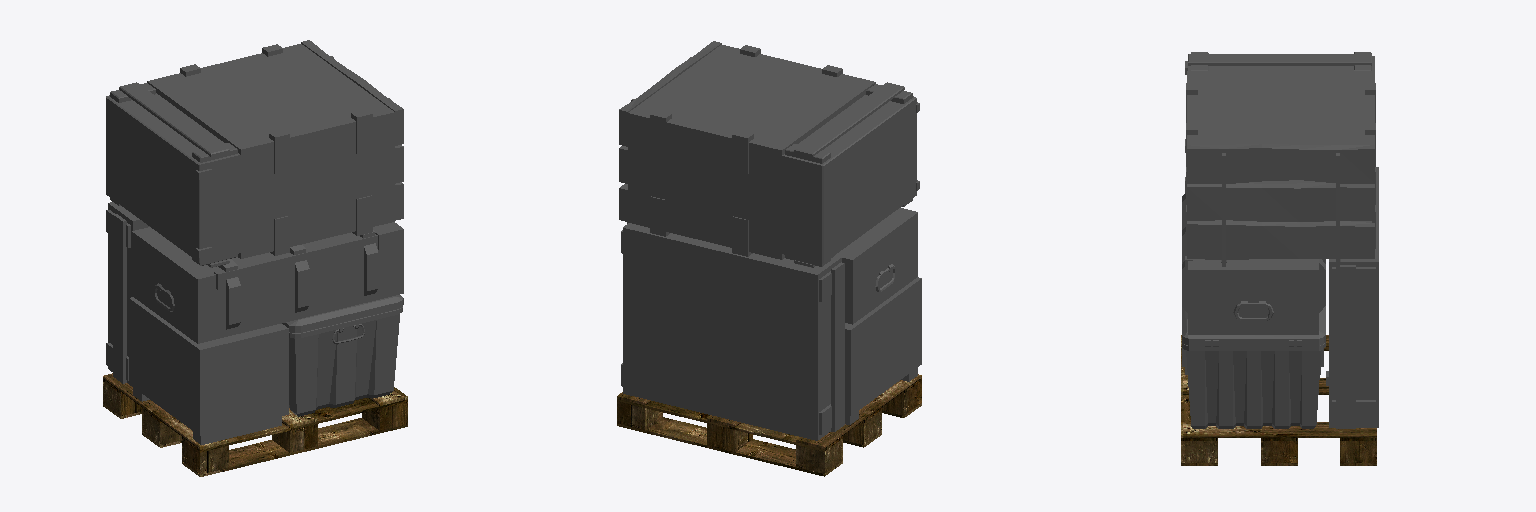
3 renders of one model, left to right at view 1: azimuth 30°, elevation 25°; view 2: azimuth 150°, elevation 25°; view 3: azimuth 270°, elevation 25°, orthographic.
Parts seen in each view (by area): view 1: studio_crateshell_ref_mesh_02; view 2: studio_crateshell_ref_mesh_02; view 3: studio_crateshell_ref_mesh_02.
Part boxes in pixels (x1,y1,x2,y2): studio_crateshell_ref_mesh_02: (103,40,407,476); studio_crateshell_ref_mesh_02: (617,41,921,476); studio_crateshell_ref_mesh_02: (1181,52,1378,465).
Size of the model in its own units: 29.42 by 42.21 by 23.64.
7 materials, 1 textured.